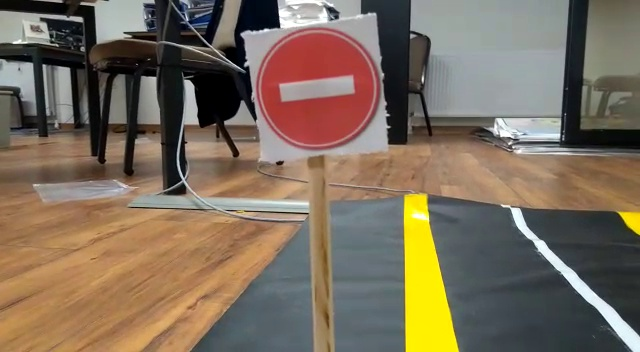girisi_olmayan_yol: (254, 29, 381, 148)
